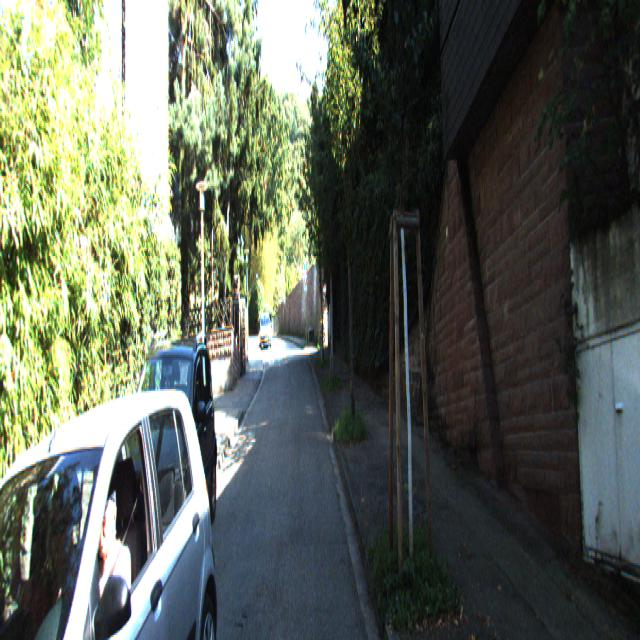Car: (0, 354, 221, 638), (110, 328, 218, 612), (258, 310, 272, 350)
